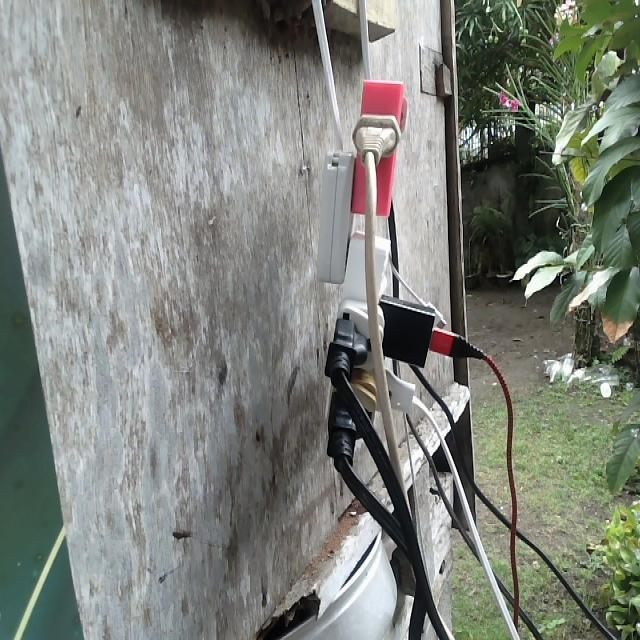-: (315, 78, 490, 474)
